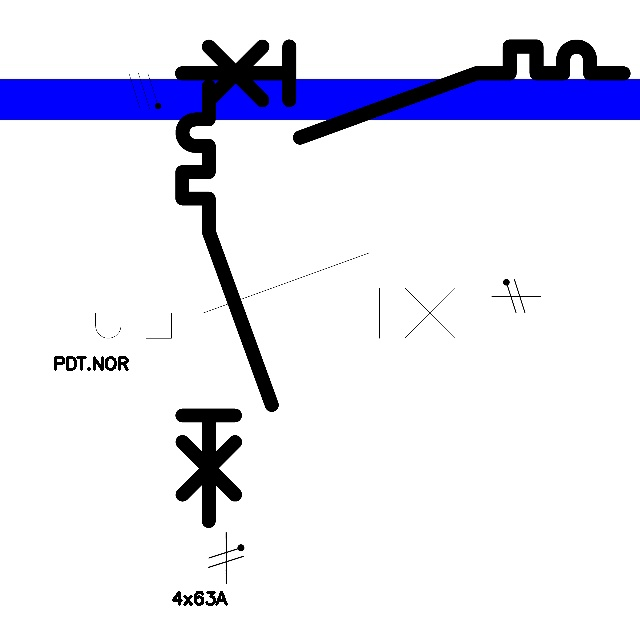interruptor_termomagnetico: (170, 35, 635, 148), (171, 75, 283, 532), (53, 242, 491, 349)
